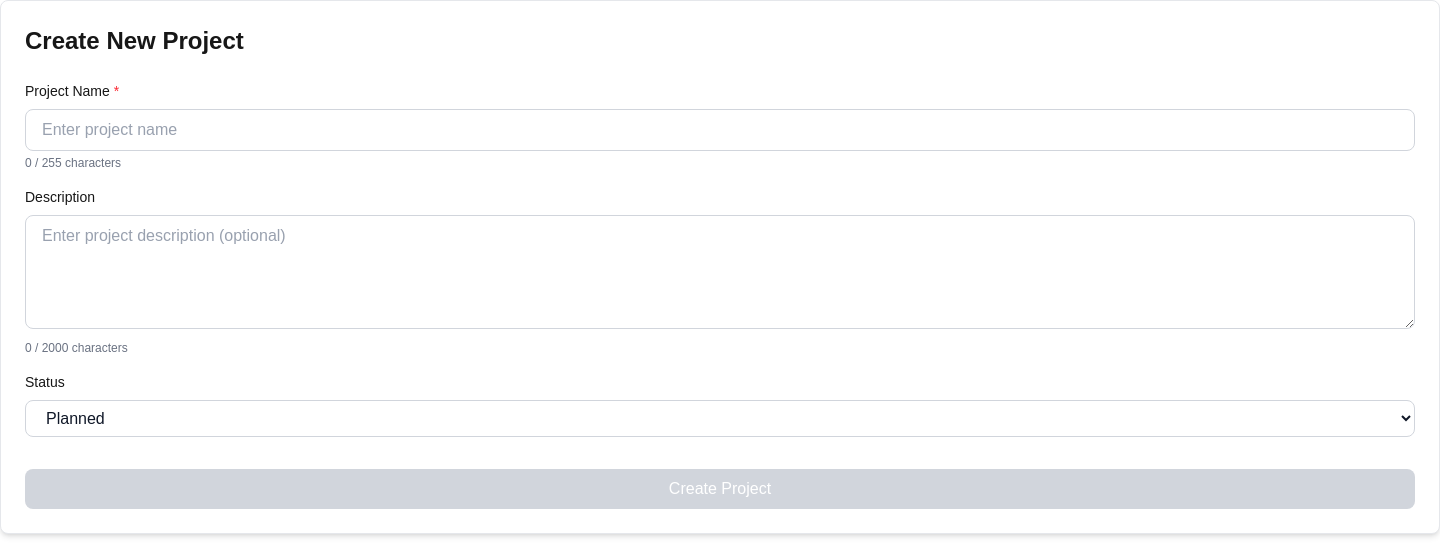
Test case: ProjectForm › Form Validation › should enable submit button when title is provided
This screenshot has width=1440, height=555.
Type "Test Project" into the field labelled "Project Name *" at {"x": 720, "y": 130}, box [25,109,1415,151]
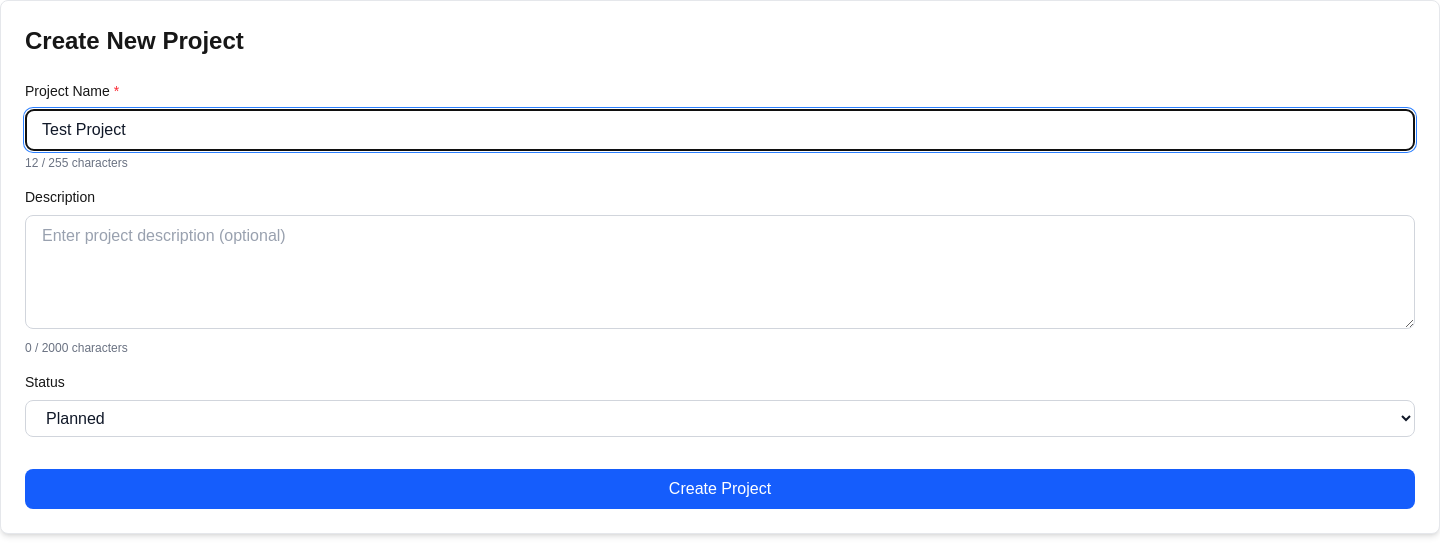
Check: the button "Create Project" is enabled, box [25,469,1415,509]
